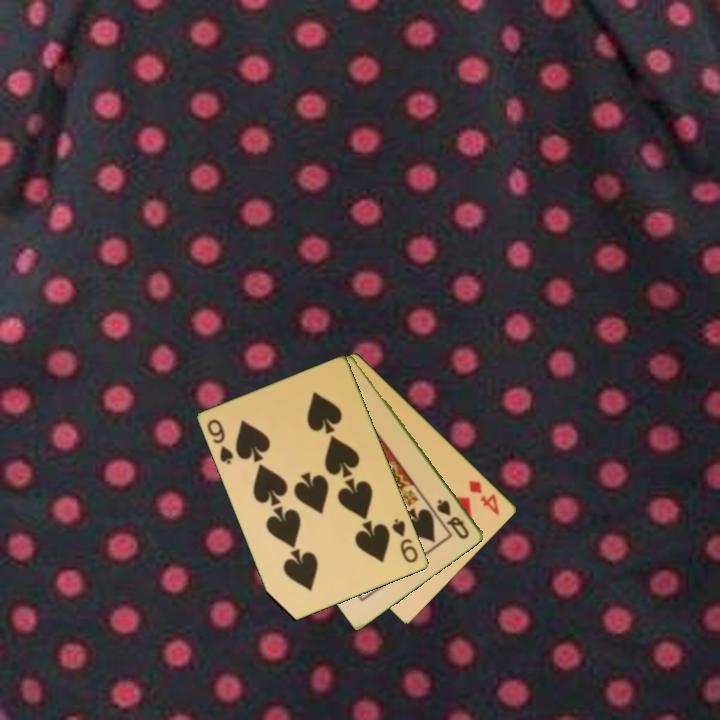4d: (465, 477, 503, 518)
9s: (389, 515, 422, 566), (204, 416, 237, 467)
Qs: (434, 495, 473, 542)
